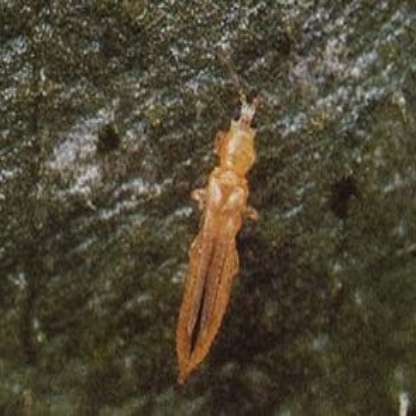Thrips: (167, 78, 262, 380)
